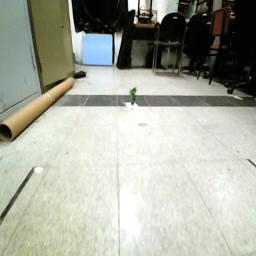herb: (130, 87, 138, 106)
